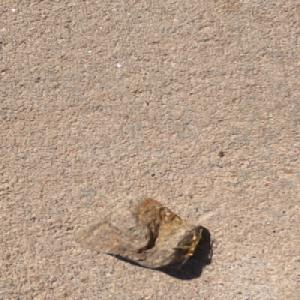Rock: (68, 195, 203, 270)
